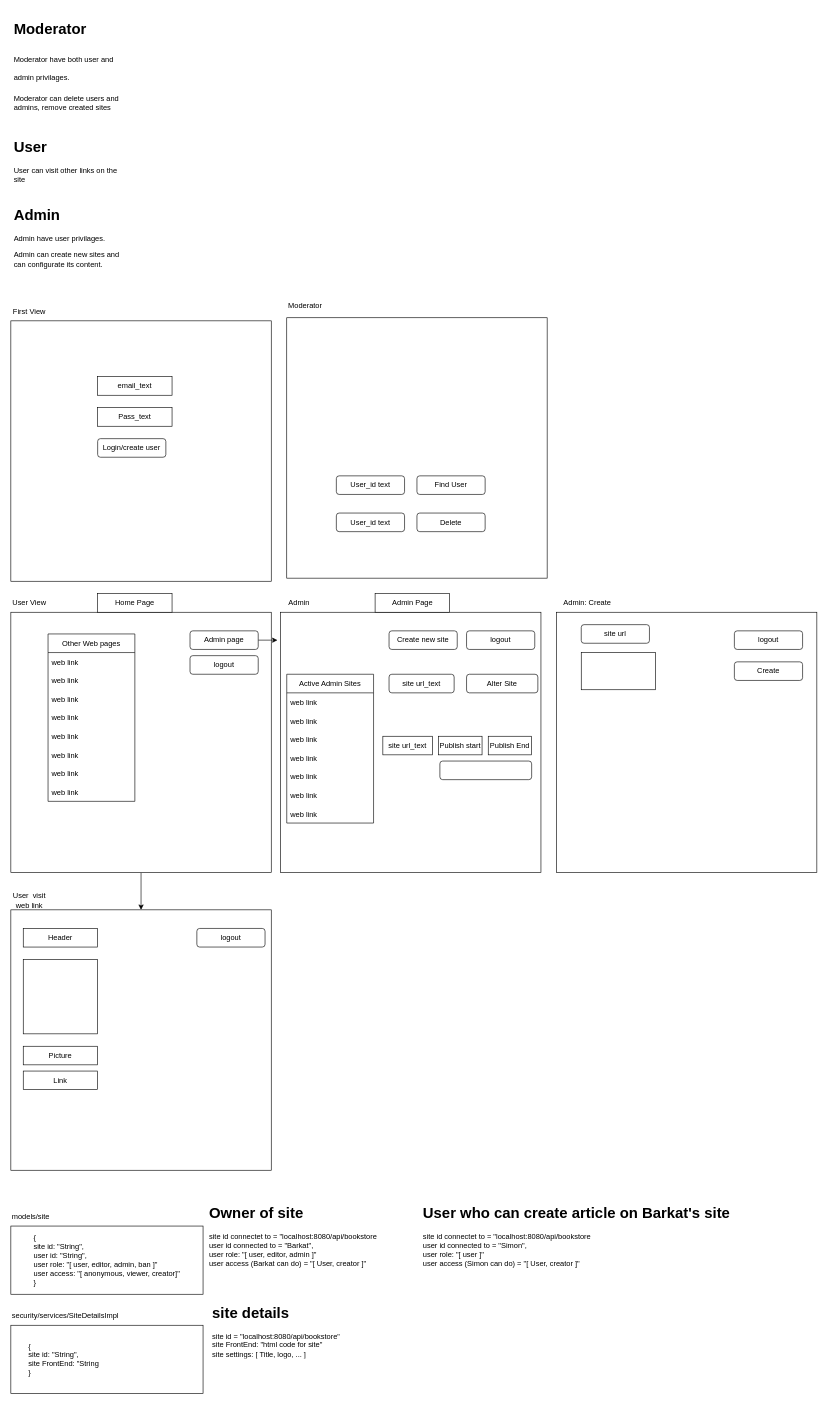
The diagram is 828 pixels wide and 1404 high, and some of its shapes have lost their labels. The shapes that lost their labels are listed below. From the top down, each one's centre as x and y in pixels, then its label:
At (x=618, y=671): "Enter html_text".
At (x=485, y=770): "Publish".
At (x=60, y=996): "Article text".
